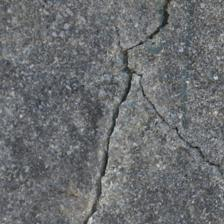Crack: (24, 55, 110, 166), (0, 118, 103, 180), (63, 0, 112, 76)
